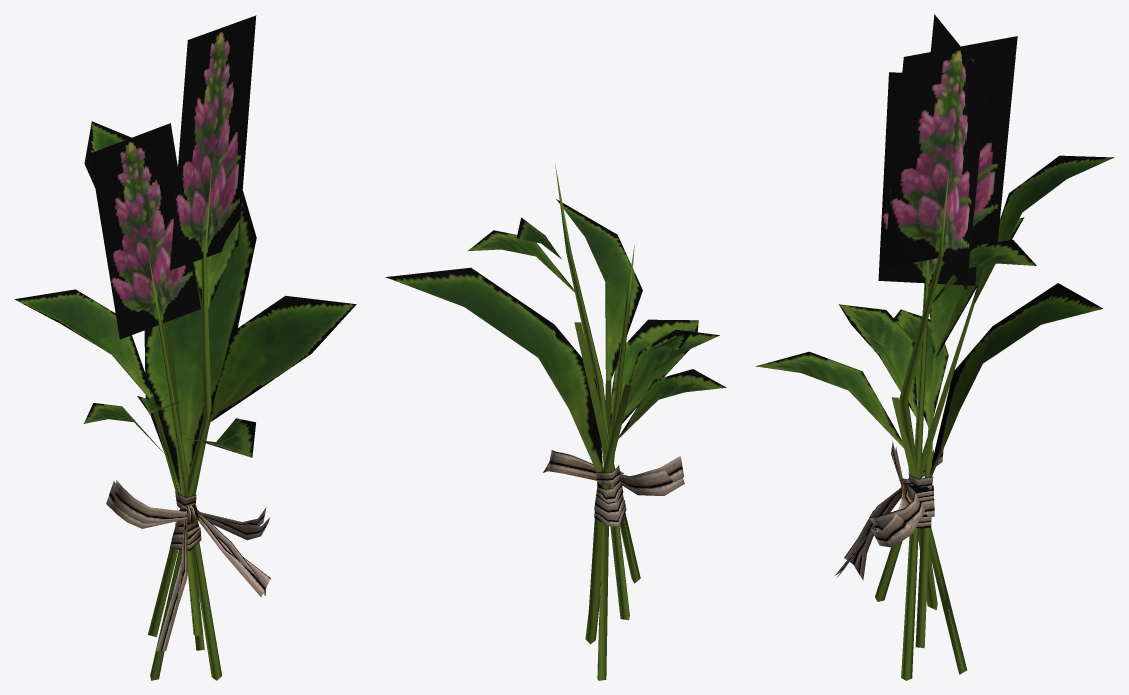
The model's file is Obj_Get_FlowerChemical_A_01.glb.
The picture shows the model from 3 angles, left to right: view 1: azimuth 30°, elevation 25°; view 2: azimuth 150°, elevation 25°; view 3: azimuth 270°, elevation 25°; orthographic projection. The views are drawn at different scales.
Parts seen in each view (by area): view 1: Obj_Get_FlowerChemical_A_01; view 2: Obj_Get_FlowerChemical_A_01; view 3: Obj_Get_FlowerChemical_A_01.
Boxes of the visible parts, <box> form: Obj_Get_FlowerChemical_A_01: <box>14,15,356,680</box>; Obj_Get_FlowerChemical_A_01: <box>385,163,726,680</box>; Obj_Get_FlowerChemical_A_01: <box>756,14,1114,680</box>.
Bounding box in the file's own units: 0.6355 × 1.5 × 0.7312.
2 materials, 2 textured.
